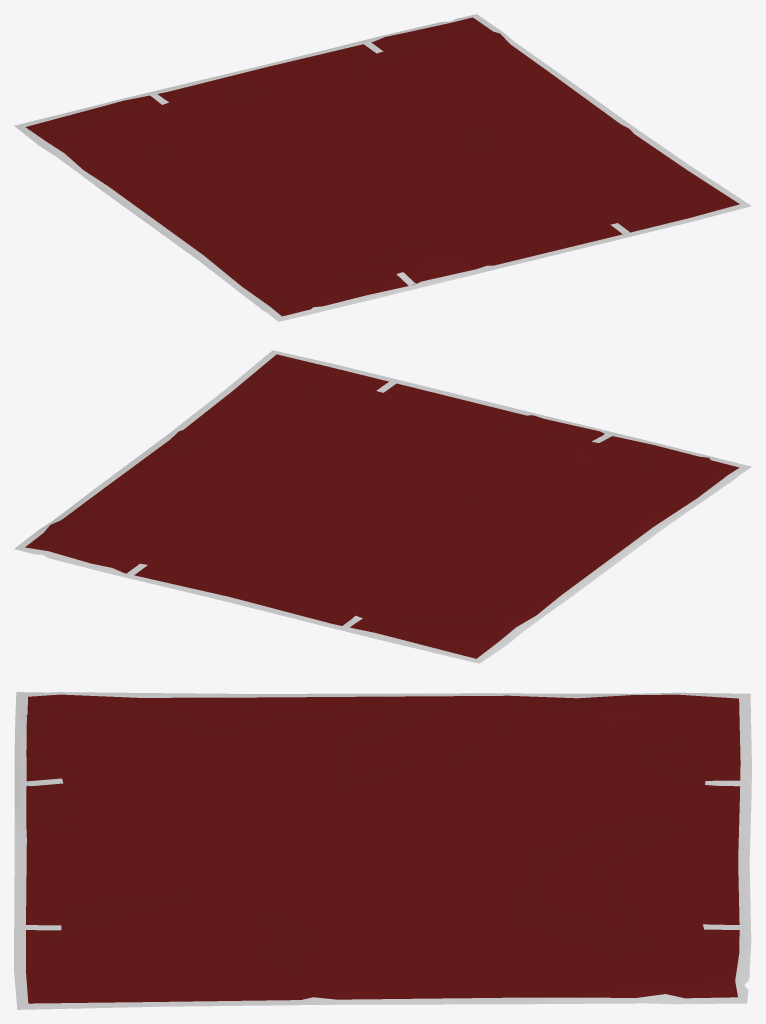
File: SM_M_Government_Office_ClothLarge_01Red_ATLAS.fbx
3 renders of one model, top to bottom at view 1: azimuth 30°, elevation 25°; view 2: azimuth 150°, elevation 25°; view 3: azimuth 270°, elevation 25°, orthographic. The views are drawn at different scales.
Parts seen in each view (by area): view 1: SM_M_Government_Office_ClothLarge_01Red_ATLAS; view 2: SM_M_Government_Office_ClothLarge_01Red_ATLAS; view 3: SM_M_Government_Office_ClothLarge_01Red_ATLAS.
Boxes of the visible parts, x1=… form: SM_M_Government_Office_ClothLarge_01Red_ATLAS: x1=14, y1=14, x2=751, y2=321; SM_M_Government_Office_ClothLarge_01Red_ATLAS: x1=14, y1=350, x2=751, y2=663; SM_M_Government_Office_ClothLarge_01Red_ATLAS: x1=14, y1=692, x2=751, y2=1009.
Size of the model in its own units: 306 by 300 by 3.27.
